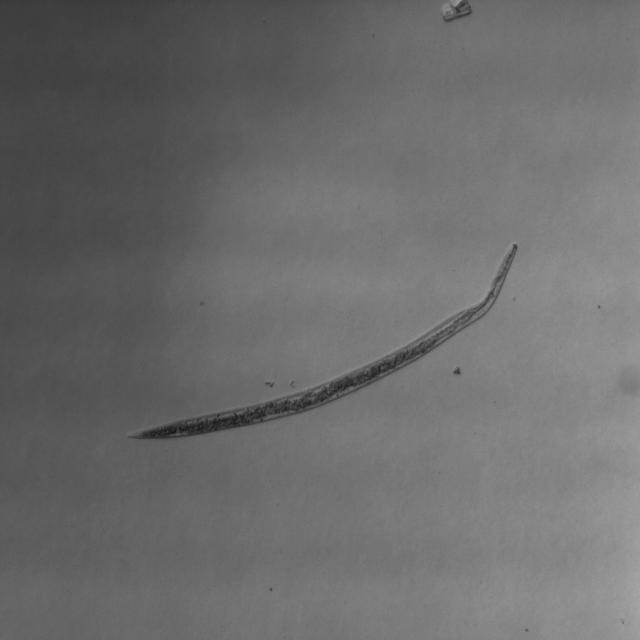Radopholus: (112, 234, 530, 453)
